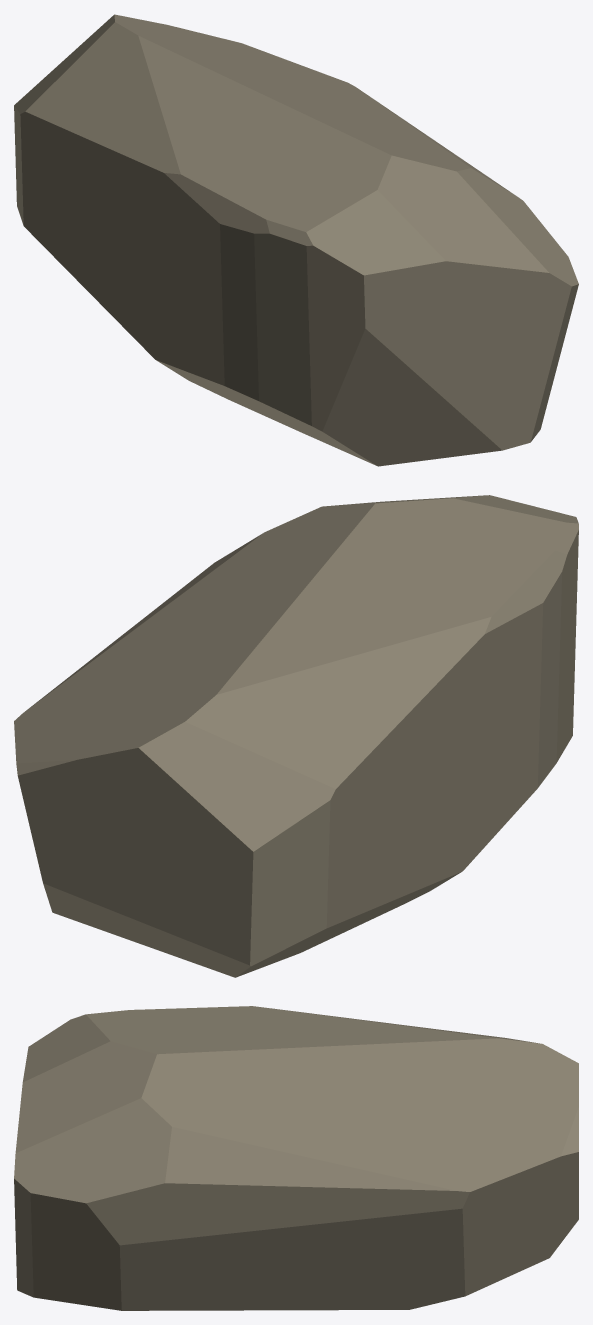
File: rock10.fbx
3 views of the same model, one above another, from view 1: azimuth 30°, elevation 25°; view 2: azimuth 150°, elevation 25°; view 3: azimuth 270°, elevation 25° (orthographic). The views are drawn at different scales.
Parts seen in each view (by area): view 1: Rock10; view 2: Rock10; view 3: Rock10.
Part boxes in pixels (x1=…): Rock10: x1=14, y1=14, x2=578, y2=466; Rock10: x1=14, y1=495, x2=578, y2=977; Rock10: x1=14, y1=1006, x2=578, y2=1310.
Bounding box in the file's own units: 0.7904 × 0.64 × 1.47.
